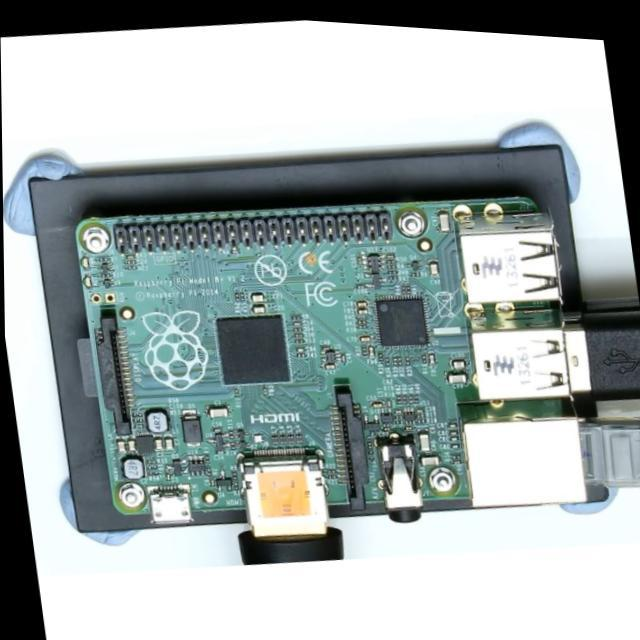Raspberry Pi 1 B-: (77, 199, 589, 542)
